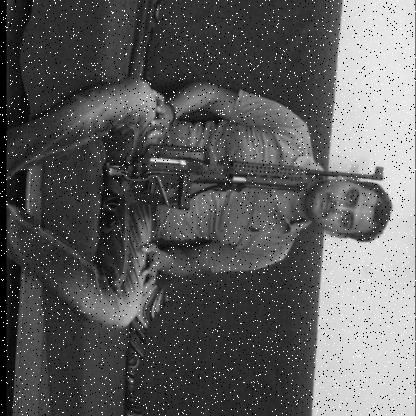rifle: (98, 142, 384, 214)
